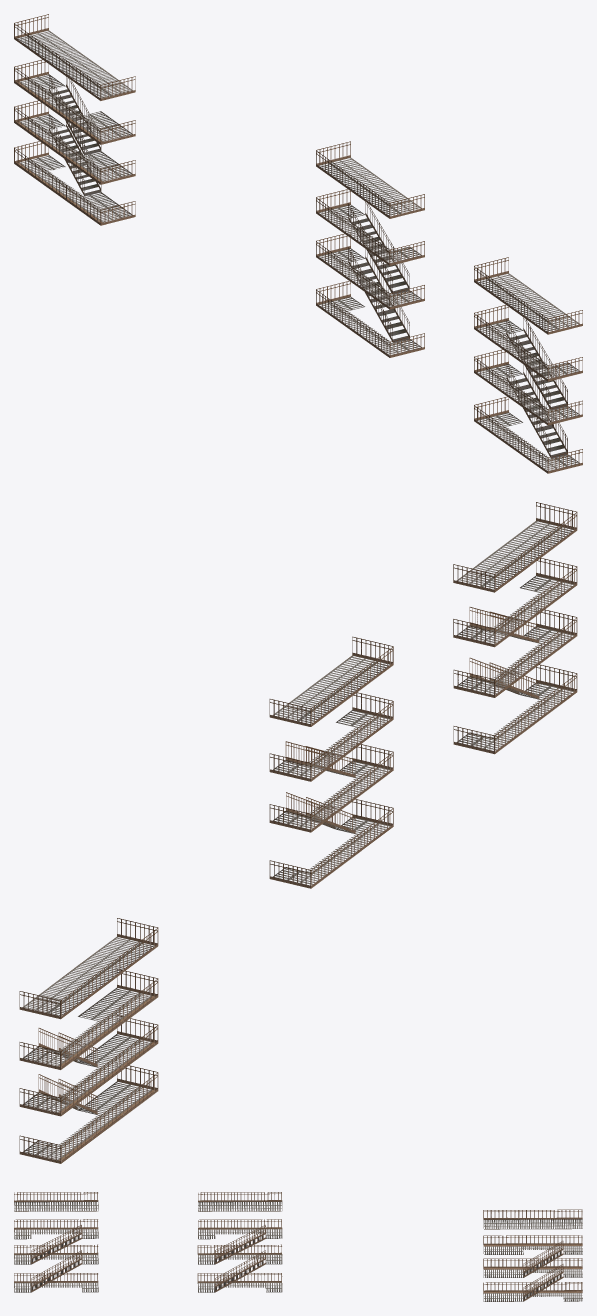
File: lan_fescalpha05.obj
3 views of the same model, one above another, from view 1: azimuth 30°, elevation 25°; view 2: azimuth 150°, elevation 25°; view 3: azimuth 270°, elevation 25° (orthographic). The views are drawn at different scales.
Visible parts, largest first — view 1: LAn_fescalpha05; view 2: LAn_fescalpha05; view 3: LAn_fescalpha05.
Part boxes in pixels (x1,y1,x2,y2): LAn_fescalpha05: (14, 14, 582, 473); LAn_fescalpha05: (19, 502, 577, 1163); LAn_fescalpha05: (14, 1192, 582, 1301).
Size of the model in its own units: 4.5 by 10.31 by 47.61.
1 material, 1 textured.
